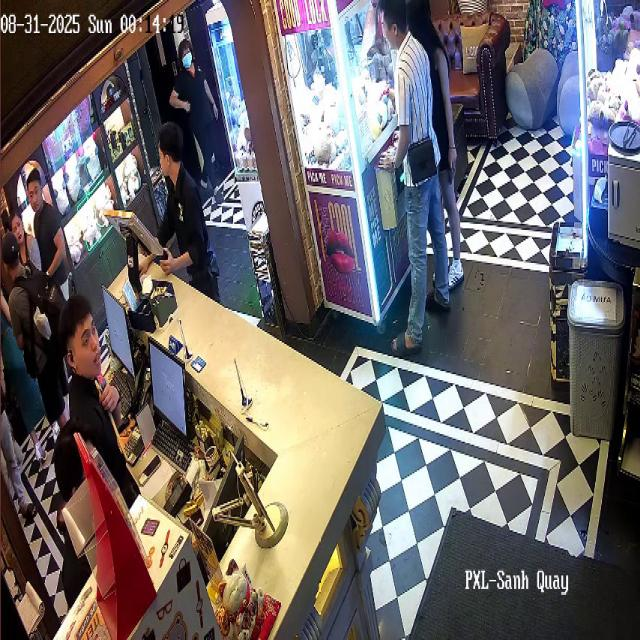khach: (376, 6, 451, 357), (5, 232, 69, 413), (426, 11, 466, 291), (28, 170, 68, 283), (12, 192, 38, 270)
nhan vien: (154, 128, 220, 319), (61, 290, 125, 472), (173, 40, 226, 181), (55, 426, 102, 566)
